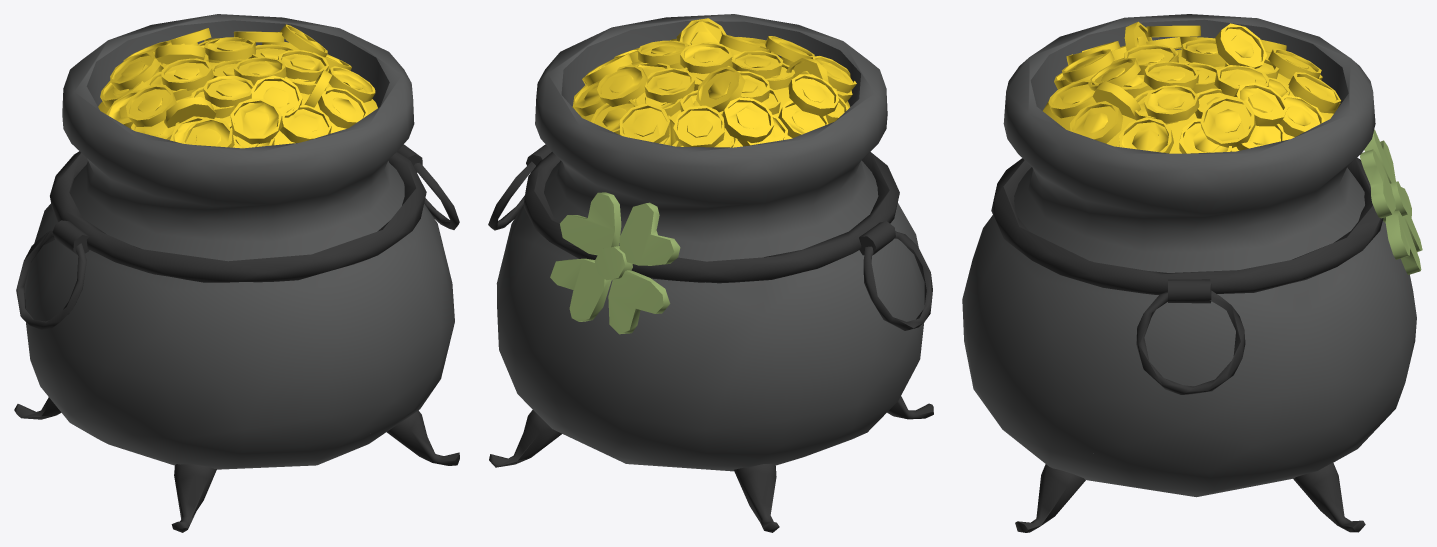
Rendered from goldcauldron_low_rootss102.fbx.
3 renders of one model, left to right at view 1: azimuth 30°, elevation 25°; view 2: azimuth 150°, elevation 25°; view 3: azimuth 270°, elevation 25°, orthographic. The views are drawn at different scales.
Parts seen in each view (by area): view 1: goldcauldron_low_sh_6, goldcauldron_low_sh_1, goldcauldron_low_sh_7, goldcauldron_low_sh_9, goldcauldron_low_sh_80, goldcauldron_low_sh_8, goldcauldron_low_sh_2, goldcauldron_low_sh_3, goldcauldron_low_sh_83, goldcauldron_low_sh_81, goldcauldron_low_sh_68, goldcauldron_low_sh_97 (+22 smaller); view 2: goldcauldron_low_sh_7, goldcauldron_low_sh_2, goldcauldron_low_sh_5, goldcauldron_low_sh_3, goldcauldron_low_sh_81, goldcauldron_low_sh_1, goldcauldron_low_sh_6, goldcauldron_low_sh_8, goldcauldron_low_sh_18, goldcauldron_low_sh_22, goldcauldron_low_sh_4, goldcauldron_low_sh_19 (+33 smaller); view 3: goldcauldron_low_sh_5, goldcauldron_low_sh_9, goldcauldron_low_sh_8, goldcauldron_low_sh_1, goldcauldron_low_sh_3, goldcauldron_low_sh_7, goldcauldron_low_sh_4, goldcauldron_low_sh_10, goldcauldron_low_sh_79, goldcauldron_low_sh_82, goldcauldron_low_sh_83, goldcauldron_low_sh_17 (+37 smaller).
Boxes of the visible parts, x1,y1,x2,y2 form: goldcauldron_low_sh_6: (46, 203, 376, 469); goldcauldron_low_sh_1: (168, 71, 413, 231); goldcauldron_low_sh_7: (34, 30, 202, 289); goldcauldron_low_sh_9: (332, 200, 454, 446); goldcauldron_low_sh_80: (96, 240, 351, 282); goldcauldron_low_sh_8: (322, 33, 428, 219); goldcauldron_low_sh_2: (24, 256, 102, 441); goldcauldron_low_sh_3: (134, 14, 348, 45); goldcauldron_low_sh_83: (341, 190, 426, 265); goldcauldron_low_sh_81: (50, 151, 119, 252); goldcauldron_low_sh_68: (230, 98, 282, 144); goldcauldron_low_sh_97: (171, 464, 216, 532); goldcauldron_low_sh_7: (608, 76, 887, 357); goldcauldron_low_sh_2: (619, 309, 903, 471); goldcauldron_low_sh_5: (496, 191, 657, 425); goldcauldron_low_sh_3: (535, 68, 651, 217); goldcauldron_low_sh_81: (631, 202, 889, 283); goldcauldron_low_sh_1: (607, 14, 884, 102); goldcauldron_low_sh_6: (860, 160, 924, 390); goldcauldron_low_sh_8: (540, 30, 637, 216); goldcauldron_low_sh_18: (619, 202, 680, 265); goldcauldron_low_sh_22: (608, 270, 670, 332); goldcauldron_low_sh_4: (516, 391, 663, 466); goldcauldron_low_sh_19: (560, 192, 618, 255); goldcauldron_low_sh_5: (1132, 227, 1416, 462); goldcauldron_low_sh_9: (966, 195, 1140, 463); goldcauldron_low_sh_8: (1035, 149, 1345, 335); goldcauldron_low_sh_1: (1003, 29, 1135, 197); goldcauldron_low_sh_3: (1241, 77, 1375, 227); goldcauldron_low_sh_7: (1087, 14, 1387, 235); goldcauldron_low_sh_4: (1174, 399, 1399, 495); goldcauldron_low_sh_10: (1045, 436, 1202, 497); goldcauldron_low_sh_79: (1222, 229, 1380, 293); goldcauldron_low_sh_82: (1083, 258, 1280, 294); goldcauldron_low_sh_83: (993, 203, 1106, 288); goldcauldron_low_sh_17: (1293, 462, 1365, 532).
Bounding box in the file's own units: 361 × 323 × 325.
2 materials, 1 textured.
